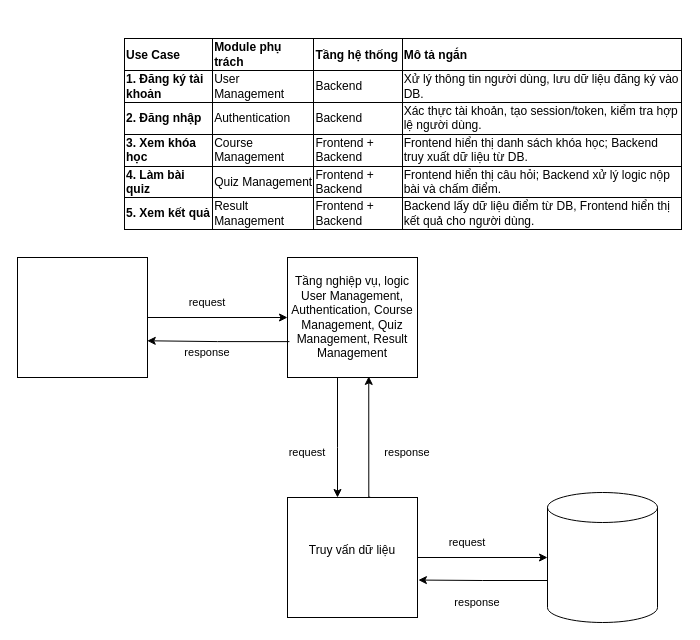
Image size: 700x640. Some labels were removed from this diagram. Each missing label, with the box of its shape:
DB User DB, Course DB, Quiz DB, Result DB: (546, 492, 658, 622)
Giao diện Course Management UI, Quiz UI, Result UI: (16, 256, 148, 378)
